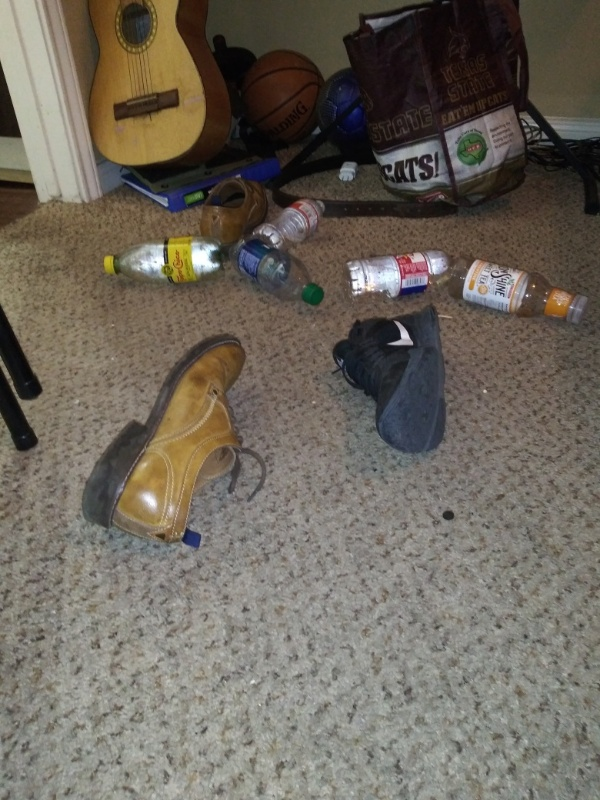bottle: (447, 254, 590, 331), (339, 246, 472, 306), (226, 235, 326, 311), (101, 234, 225, 292), (249, 196, 330, 257)
